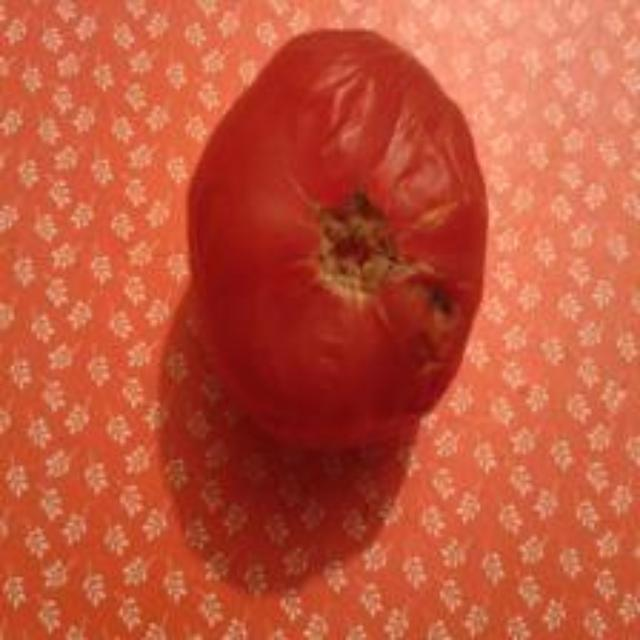defect: (187, 24, 494, 448)
